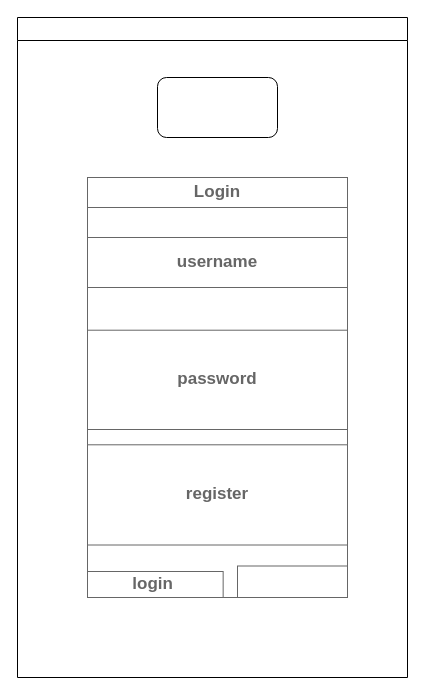
Some shapes in this 425 by 695 pixel diagram are drawn without their labels. Each missing label, with the centre of its shape:
"forgetpw" belongs at (292,581).
"Heading" belongs at (217,107).
